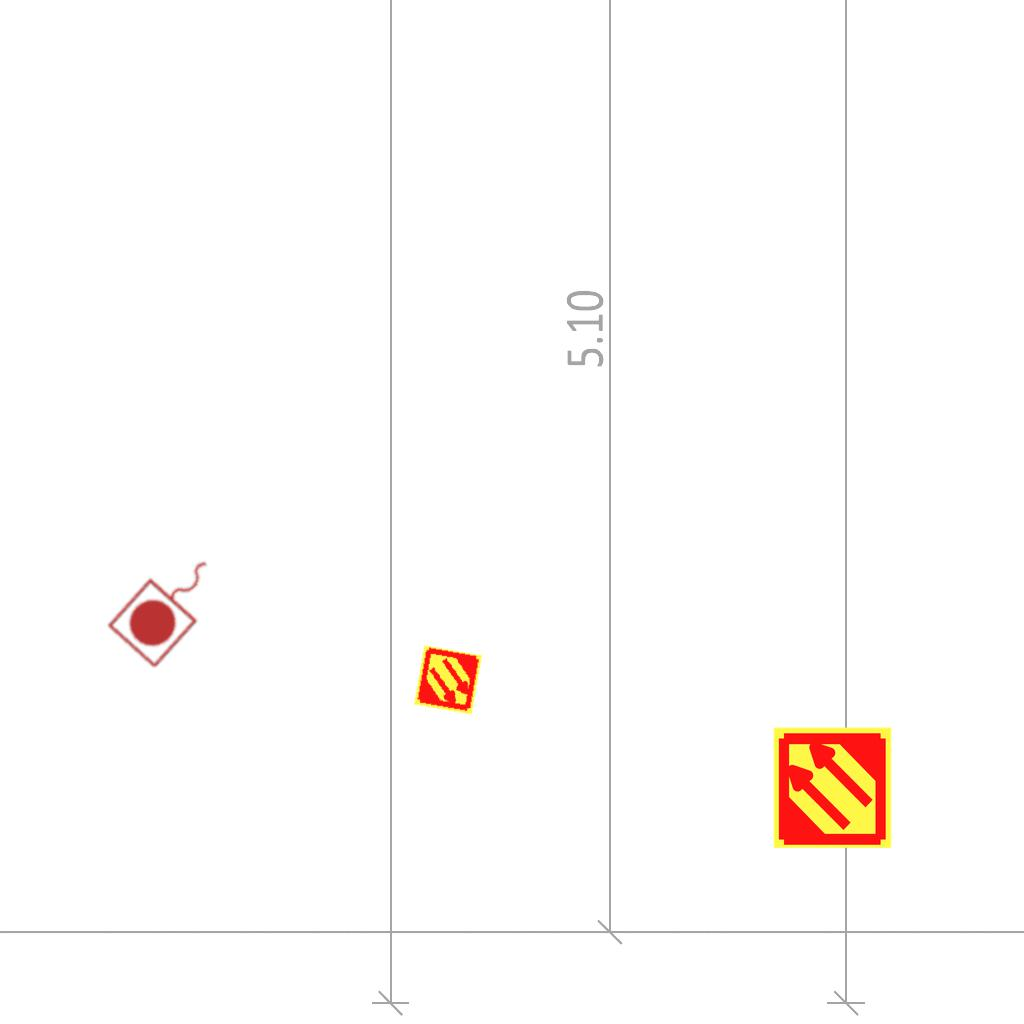ASR_Ansaugrauchmelder: (770, 725, 895, 850), (412, 644, 484, 716)
Zugtaster: (102, 535, 238, 675)
